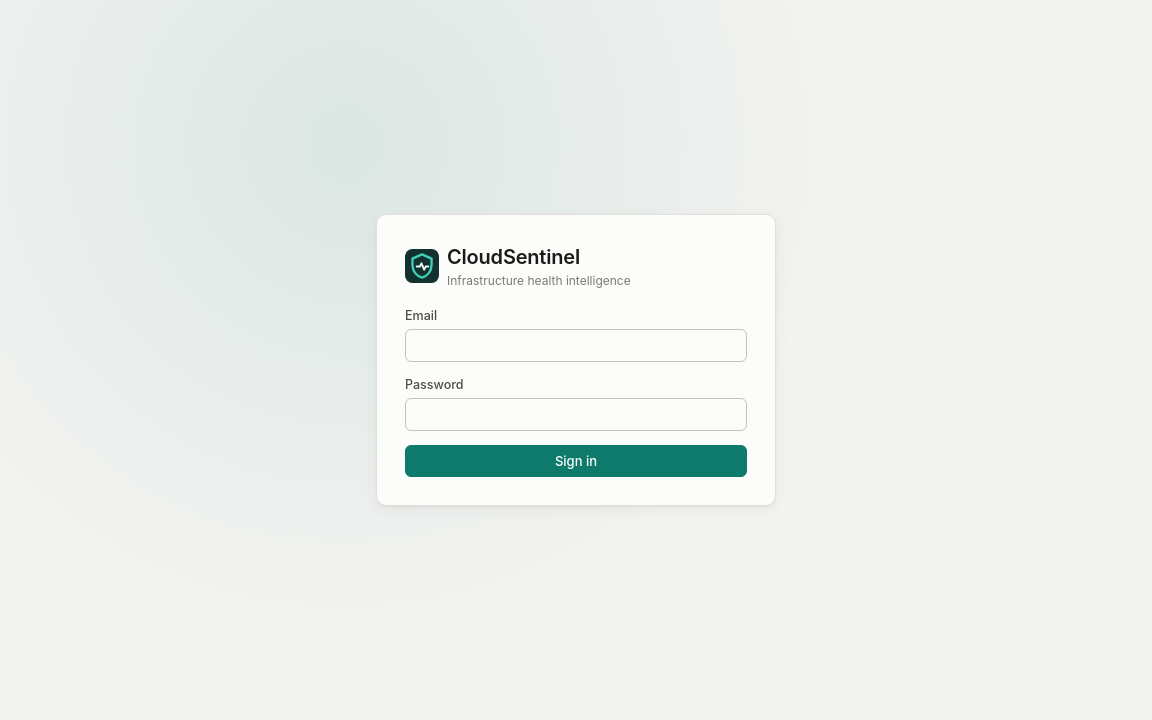
Test: App › signs in and renders the overview with open incidents
The width and height of the screenshot is (1152, 720).
Type "ops@example.com" into the field labelled "Email" at (576, 346), box [405,329,747,362]
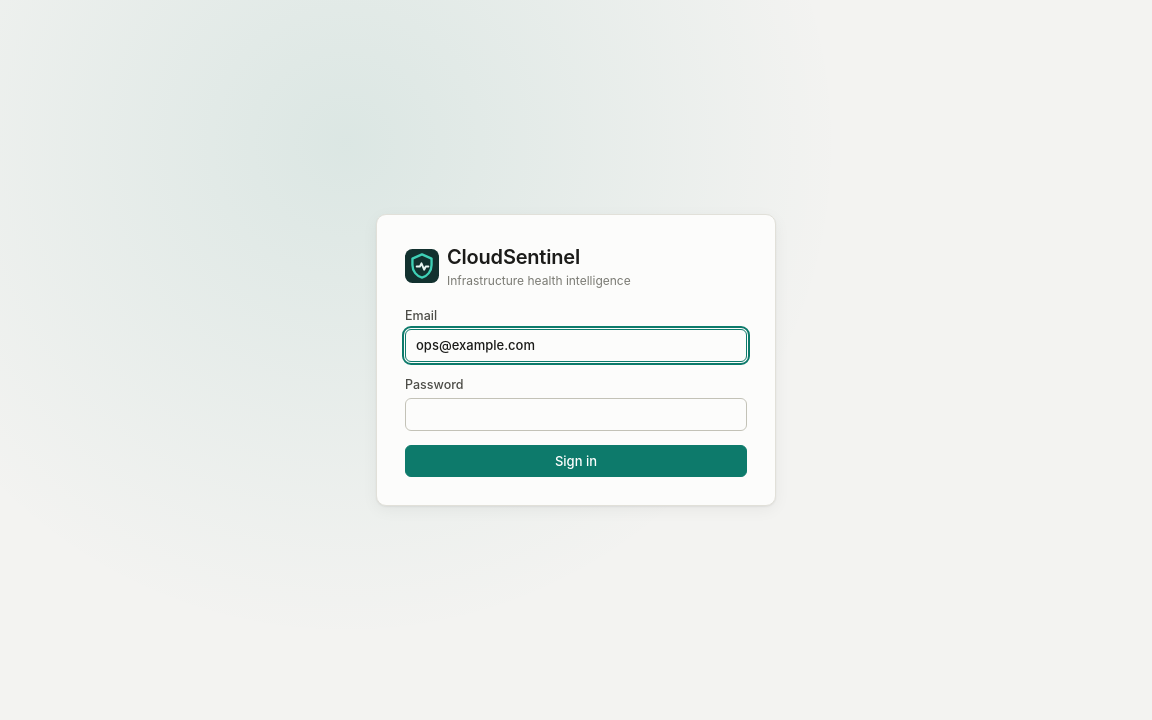
Type "correct-horse-battery" into the password field labelled "Password" at (576, 415), box [405,398,747,431]
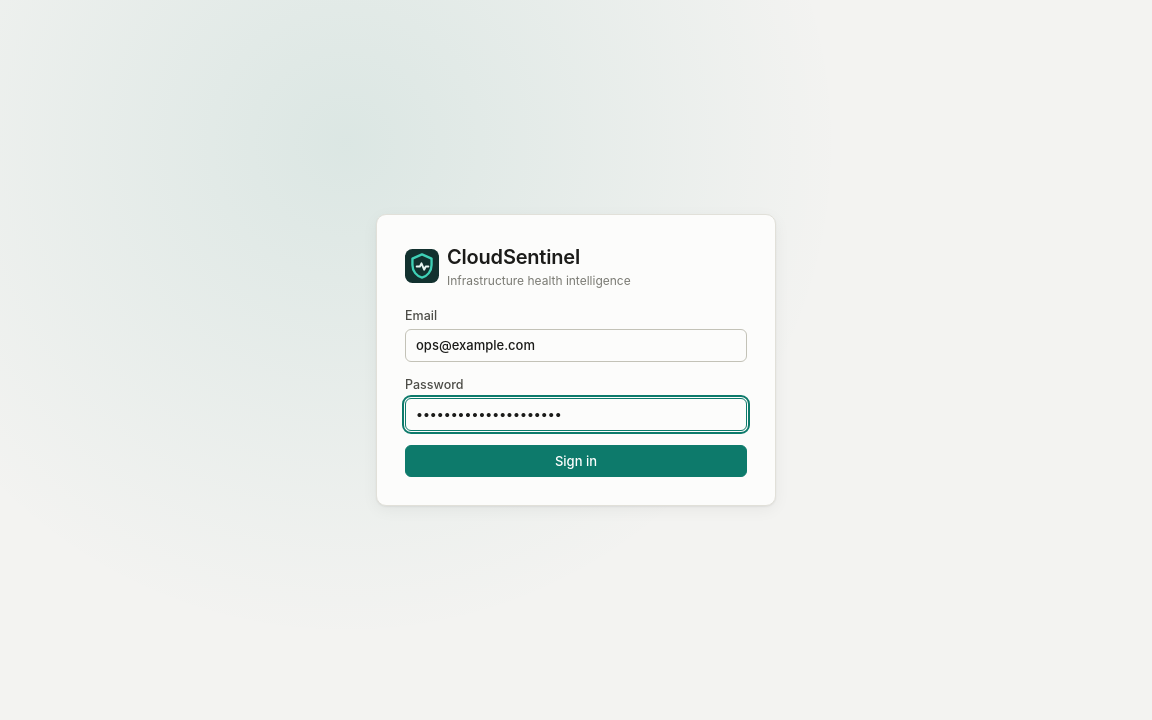
Click the button "Sign in" at (576, 461), box [405,445,747,477]
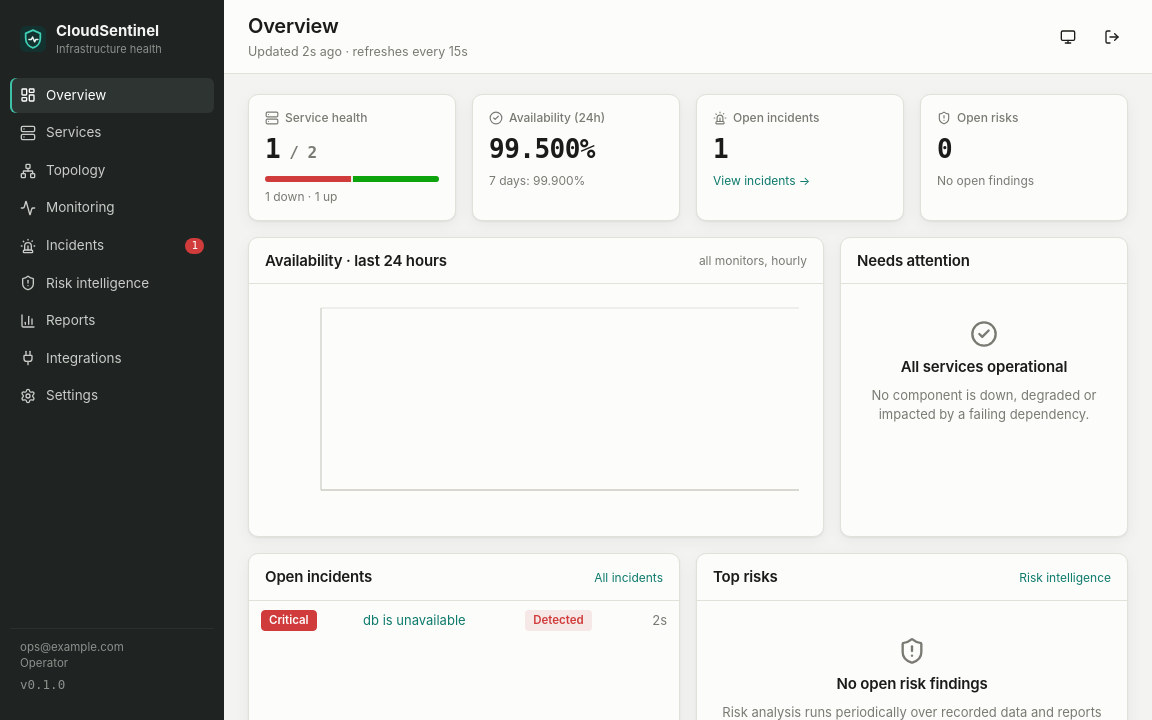
Result: the link "db is unavailable" is shown at [363,612,466,628]
Result: the text "99.500%" is shown at [489,134,595,164]
